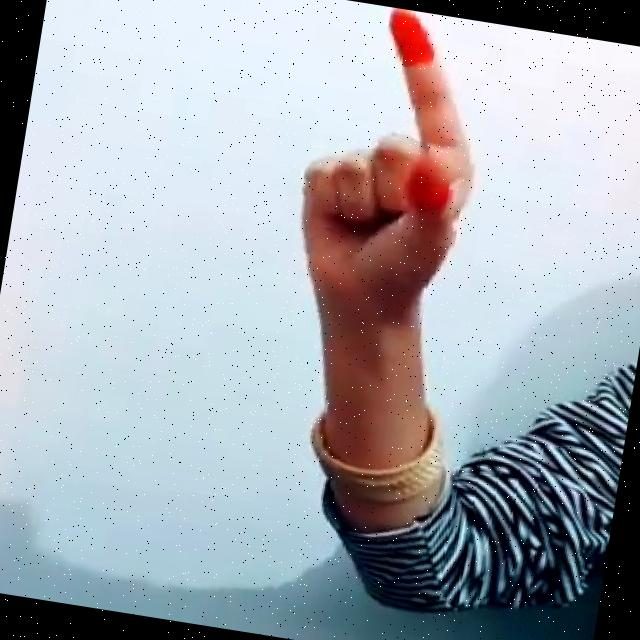Suchi: (272, 0, 518, 330)
bangle: (265, 366, 481, 522)
